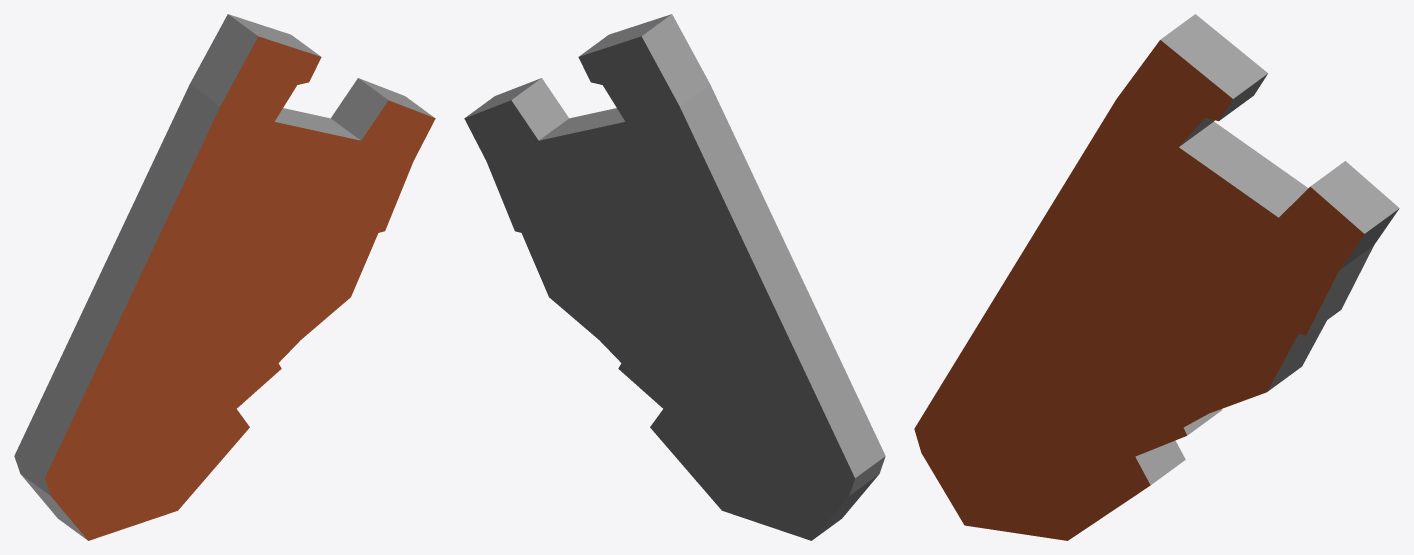
File: construction_0657_assumed_A_Casa_h6m.obj
3 renders of one model, left to right at view 1: azimuth 30°, elevation 25°; view 2: azimuth 150°, elevation 25°; view 3: azimuth 330°, elevation 25°, orthographic. The views are drawn at different scales.
Parts seen in each view (by area): view 1: construction_0657_assumed_A_Casa; view 2: construction_0657_assumed_A_Casa; view 3: construction_0657_assumed_A_Casa.
Part boxes in pixels (box(x1,y1,x2,y2)): construction_0657_assumed_A_Casa: box(14, 14, 435, 540); construction_0657_assumed_A_Casa: box(464, 14, 885, 540); construction_0657_assumed_A_Casa: box(914, 14, 1399, 540).
Size of the model in its own units: 44.35 by 50.22 by 6.
